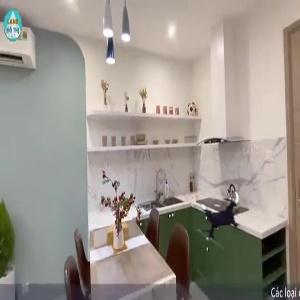drone: (190, 185, 251, 246)
